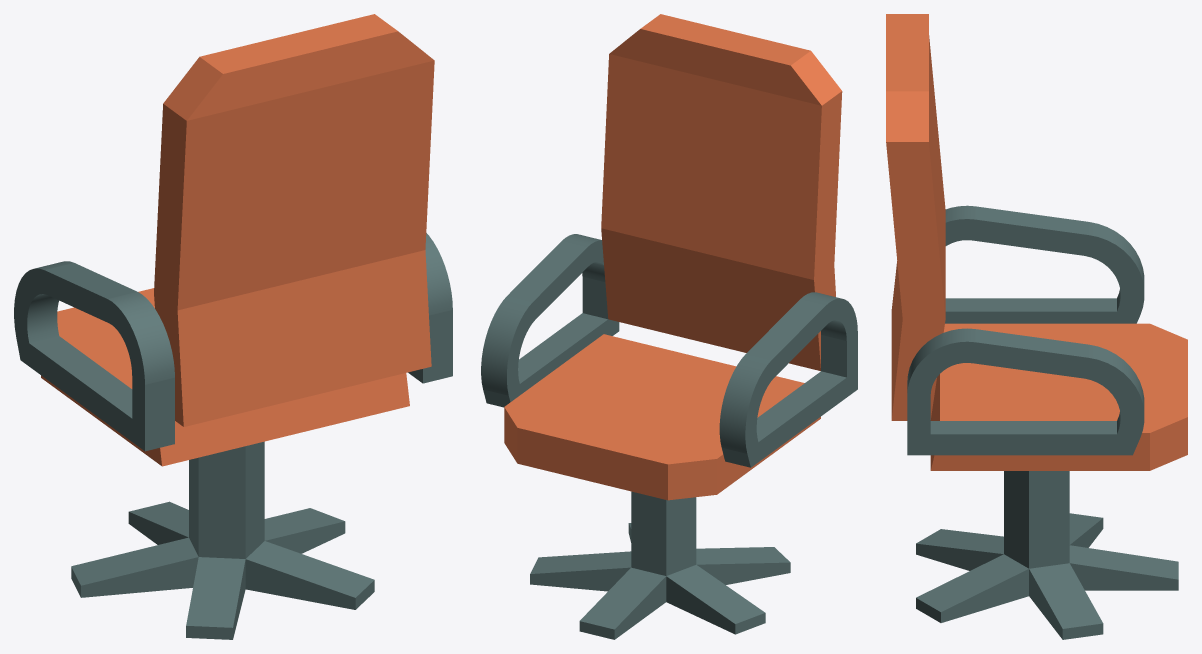
The model's file is chairDesk.glb.
3 renders of one model, left to right at view 1: azimuth 30°, elevation 25°; view 2: azimuth 150°, elevation 25°; view 3: azimuth 270°, elevation 25°, orthographic. The views are drawn at different scales.
Bounding box in the file's own units: 3.35 × 6.08 × 3.14.
